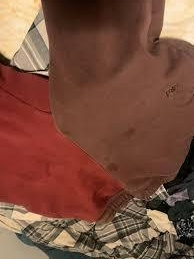oil: (162, 85, 177, 100), (122, 126, 136, 138), (112, 159, 122, 168)
